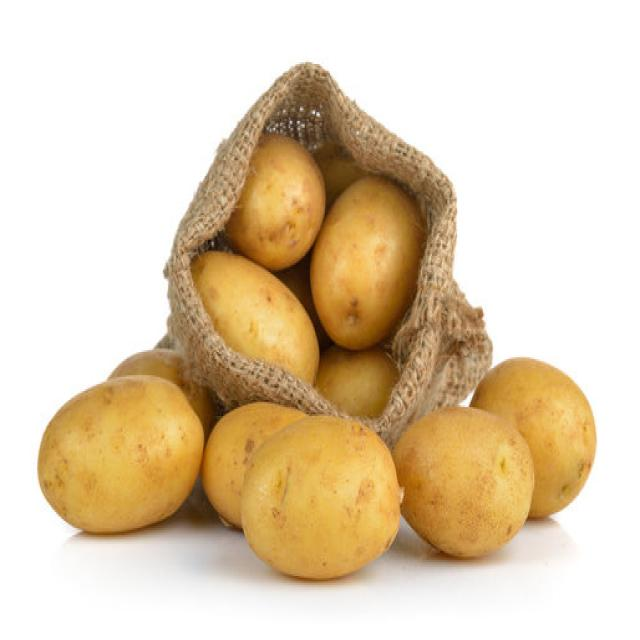Potato: (239, 412, 402, 580), (36, 374, 204, 534), (392, 404, 534, 558), (469, 356, 596, 519), (308, 174, 424, 350), (189, 249, 319, 387), (223, 132, 326, 270), (200, 400, 309, 528), (106, 347, 214, 442), (315, 343, 400, 418)
